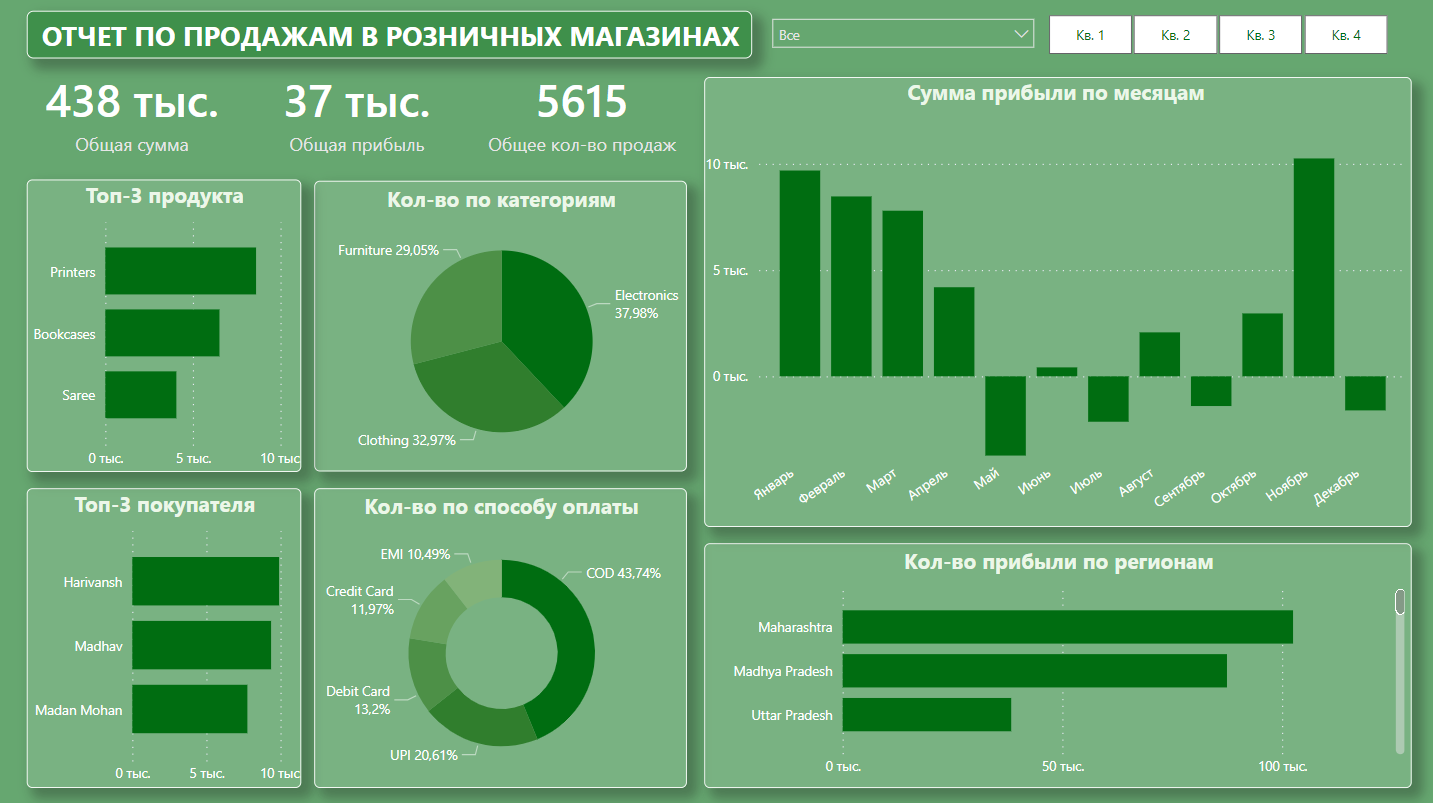

This screenshot's page, from the dashboard's own definition file:
{"tool":"powerbi","page":{"name":"Страница 1","canvas":[1280,720],"ordinal":0},"visuals":[{"type":"slicer","fields":{"Values":["Orders.Order Date.Изменение.Иерархия дат.Квартал"]},"box":[911.2,12.5,345,42.5],"z":0},{"type":"textbox","box":[25,12.5,645,42.5],"z":1000},{"type":"slicer","fields":{"Values":["Orders.State"]},"box":[681.3,12.7,247.3,42.7],"z":2000},{"type":"card","title":"Общая сумма","fields":{"Values":["Details.Amount"]},"box":[25,29,187.5,146.2],"z":3000},{"type":"card","fields":{"Values":["Details.Profit"]},"box":[225,29,187.5,146.2],"z":4000},{"type":"card","fields":{"Values":["Details.Quantity"]},"box":[425,29,187.5,146.2],"z":5000},{"type":"barChart","title":"Кол-во прибыли по регионам","fields":{"Y":["Details.Amount"],"Category":["Orders.State"]},"box":[627.5,485,628.8,217.5],"z":6000},{"type":"pieChart","title":"Кол-во по категориям","fields":{"Y":["Details.Amount"],"Category":["Details.Category"]},"box":[281.2,163.8,331.2,258.8],"z":7000},{"type":"clusteredBarChart","title":"Топ-3 покупателя","fields":{"Category":["Orders.CustomerName"],"Y":["Details.Amount"]},"box":[25,436.2,243.8,266.2],"z":8000},{"type":"donutChart","title":"Кол-во по способу оплаты","fields":{"Category":["Details.PaymentMode"],"Y":["Details.Quantity"]},"box":[281.2,436.2,331.2,266.2],"z":9000},{"type":"clusteredColumnChart","title":"Сумма прибыли по месяцам","fields":{"Y":["Details.Profit"],"Category":["Orders.Order Date.Изменение.Иерархия дат.Месяц"]},"box":[627.5,71.2,628.8,400],"z":10000},{"type":"barChart","title":"Топ-3 продукта","fields":{"Category":["Details.Sub-Category"],"Y":["Details.Profit"]},"box":[25,162.5,243.8,260],"z":11000}]}

Visuals, with their boxes in screenshot pixels (x1, y1, x2, y2), scaled from the page's 1280x720 canvas onto the 1433x803 screenshot:
slicer - Orders.Order Date.Изменение.Иерархия дат.Квартал: pyautogui.locateOnScreen(1020, 14, 1406, 61)
textbox: pyautogui.locateOnScreen(28, 14, 750, 61)
slicer - Orders.State: pyautogui.locateOnScreen(763, 14, 1040, 62)
"Общая сумма" card: pyautogui.locateOnScreen(28, 32, 238, 195)
card - Details.Profit: pyautogui.locateOnScreen(252, 32, 462, 195)
card - Details.Quantity: pyautogui.locateOnScreen(476, 32, 686, 195)
"Кол-во прибыли по регионам" barChart: pyautogui.locateOnScreen(703, 541, 1406, 783)
"Кол-во по категориям" pieChart: pyautogui.locateOnScreen(315, 183, 686, 471)
"Топ-3 покупателя" clusteredBarChart: pyautogui.locateOnScreen(28, 486, 301, 783)
"Кол-во по способу оплаты" donutChart: pyautogui.locateOnScreen(315, 486, 686, 783)
"Сумма прибыли по месяцам" clusteredColumnChart: pyautogui.locateOnScreen(703, 79, 1406, 526)
"Топ-3 продукта" barChart: pyautogui.locateOnScreen(28, 181, 301, 471)
